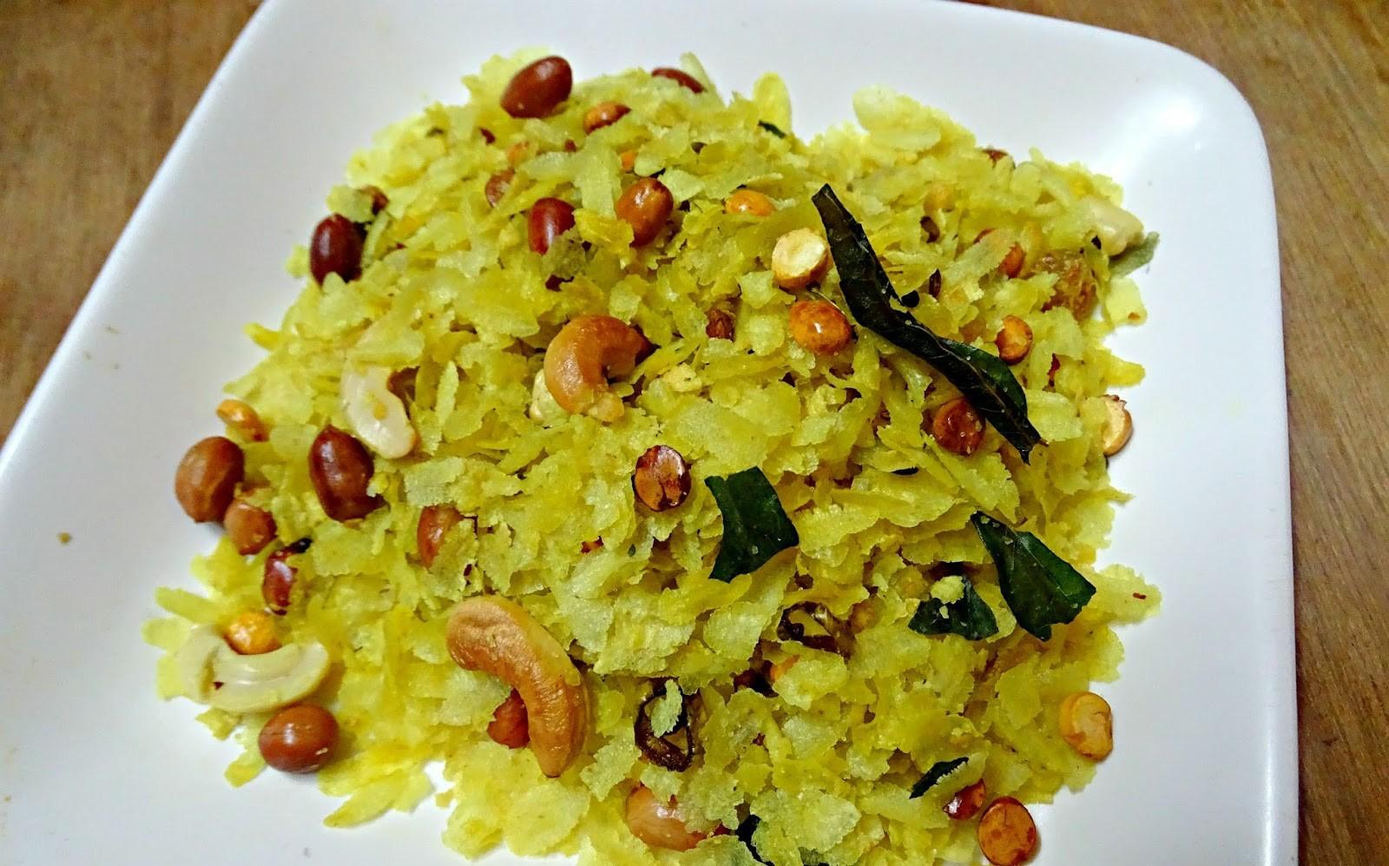Poha: (134, 47, 1162, 866)
